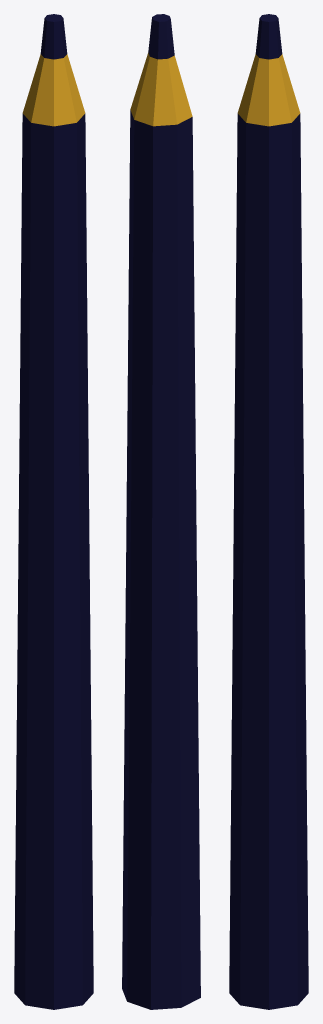
The model's file is ColoredPencil1.glb.
3 views of the same model, side by side, from view 1: azimuth 90°, elevation 25°; view 2: azimuth 210°, elevation 25°; view 3: azimuth 270°, elevation 25° (orthographic).
Visible parts, largest first — view 1: ColoredPencil1; view 2: ColoredPencil1; view 3: ColoredPencil1.
Part boxes in pixels (box(x1,y1,x2,y2)): ColoredPencil1: box(14, 14, 93, 1009); ColoredPencil1: box(122, 14, 200, 1009); ColoredPencil1: box(229, 14, 308, 1009).
Bounding box in the file's own units: 0.0166 × 0.2246 × 0.0166.
